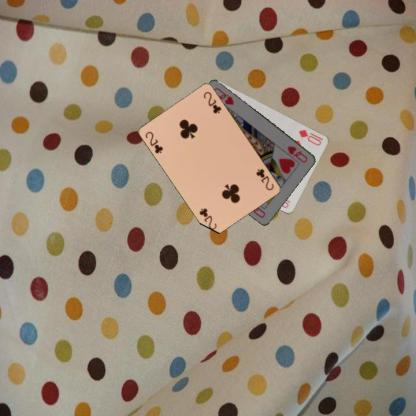10d: (296, 126, 325, 146)
2c: (142, 129, 165, 155), (254, 166, 275, 192)
Qh: (284, 143, 309, 164)
